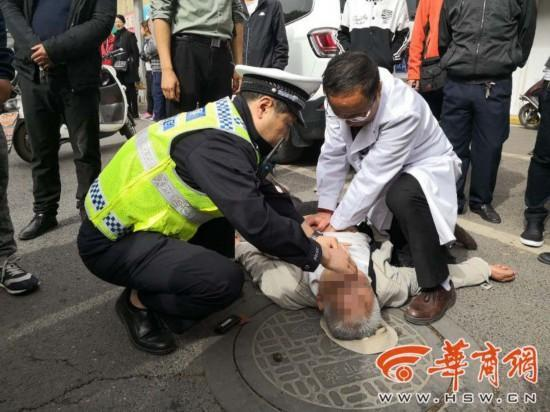10+: (2, 1, 549, 358)
down: (229, 178, 518, 337)
